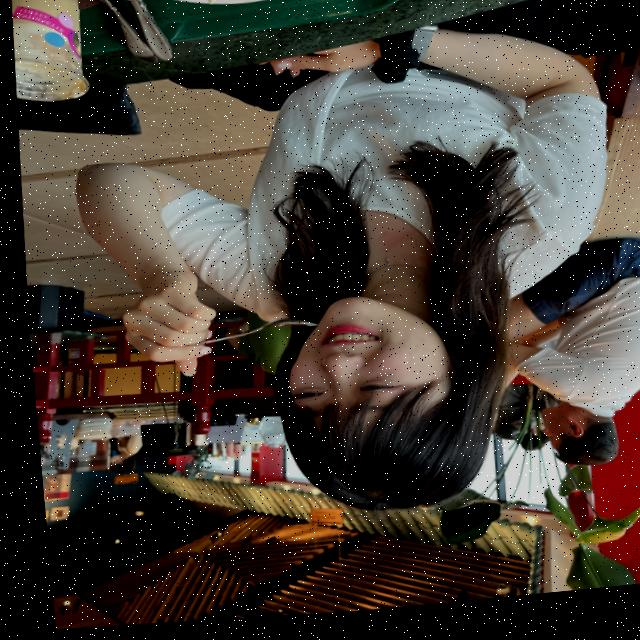eating-person: (32, 11, 640, 559)
